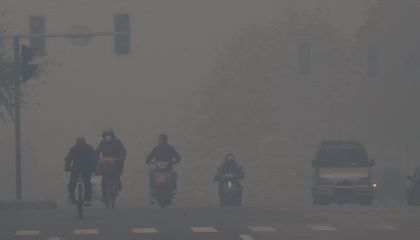bicycle: (64, 165, 93, 216), (98, 158, 121, 206)
car: (310, 139, 374, 205)
motorcycle: (147, 158, 177, 204), (214, 171, 244, 207)
person: (63, 136, 96, 202), (94, 128, 124, 196), (144, 135, 179, 184), (215, 152, 243, 203)
